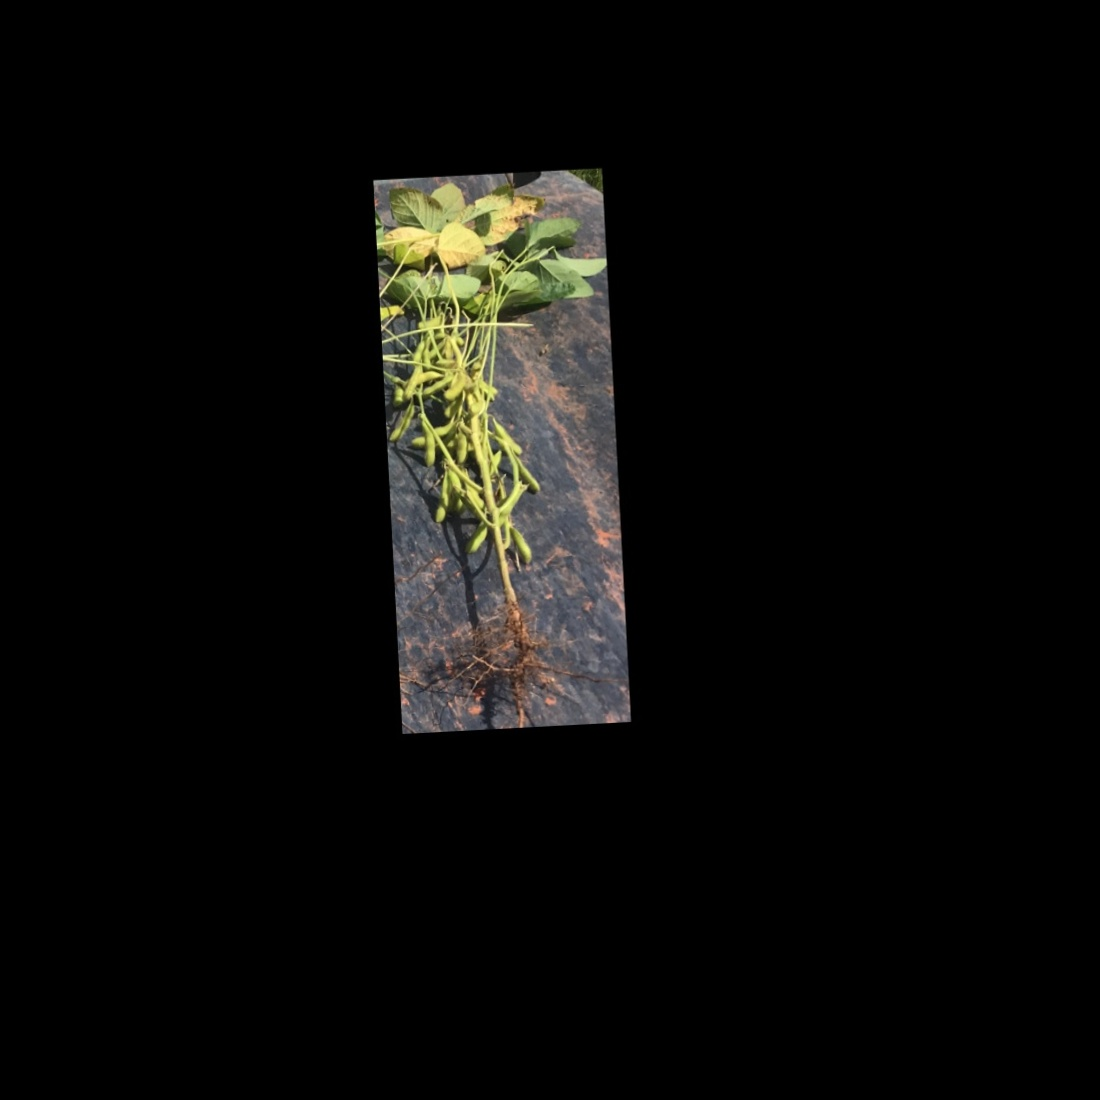pod: (385, 401, 422, 445), (506, 520, 534, 570), (492, 416, 524, 457), (515, 454, 543, 496), (415, 421, 438, 470), (398, 362, 420, 401)
soy: (374, 174, 621, 714)
